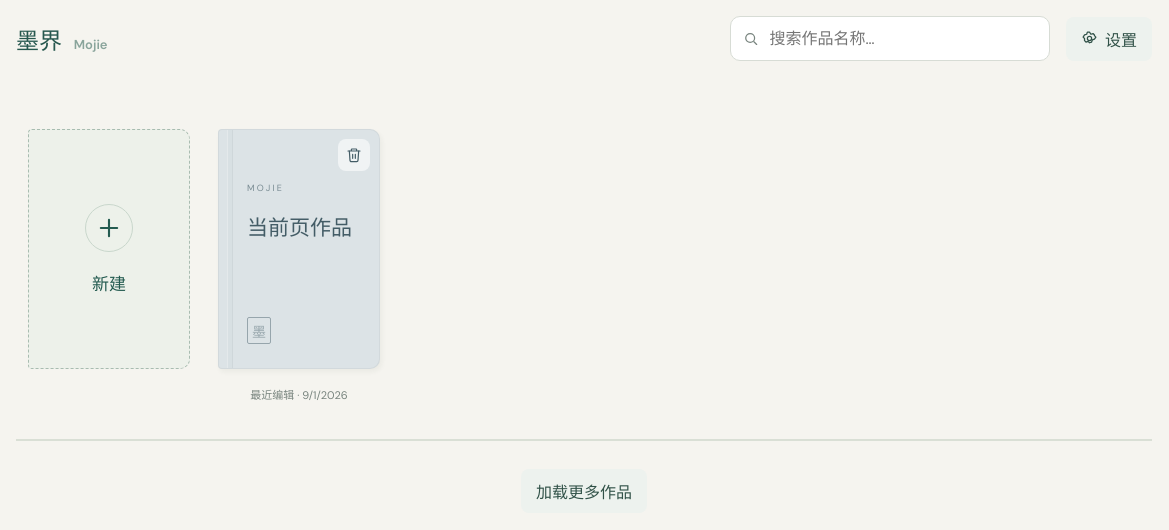
Test case: search queries all projects independently of creation and keeps its keyword during pagination
This screenshot has width=1169, height=530.
Expected: the text "当前页作品" is shown, [247,212,352,246]
Type "林舟" into the search field labelled "搜索作品名称" at (903, 38), box [769,17,1037,60]
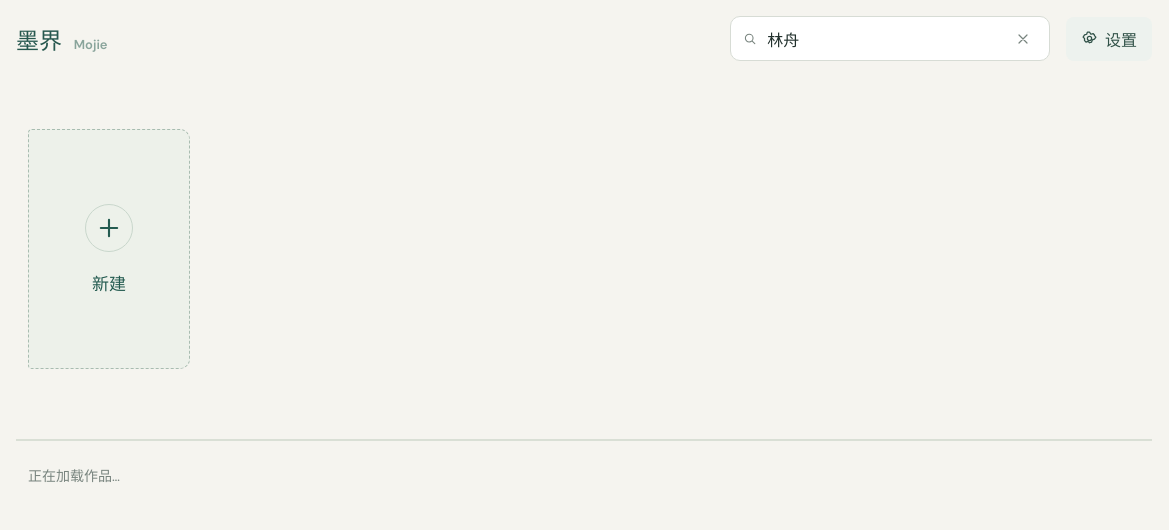
Press Enter in the search field named "搜索作品名称", box [767,17,999,60]
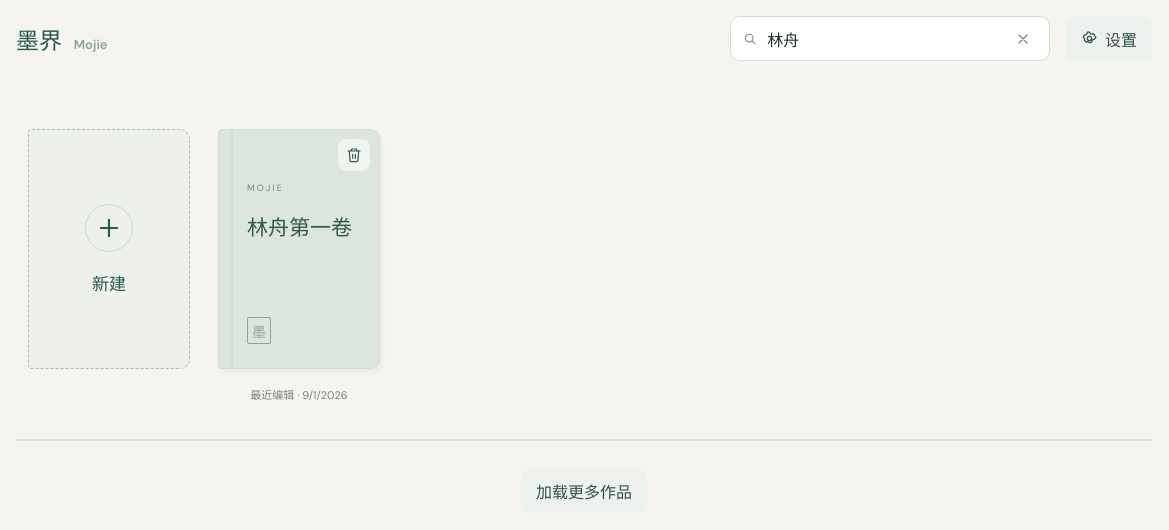
Expected: the button "当前页作品" is not shown
Expected: the text "林舟第一卷" is shown, [247,212,352,246]
Click the button "加载更多作品" at (584, 491), box [521,469,647,513]
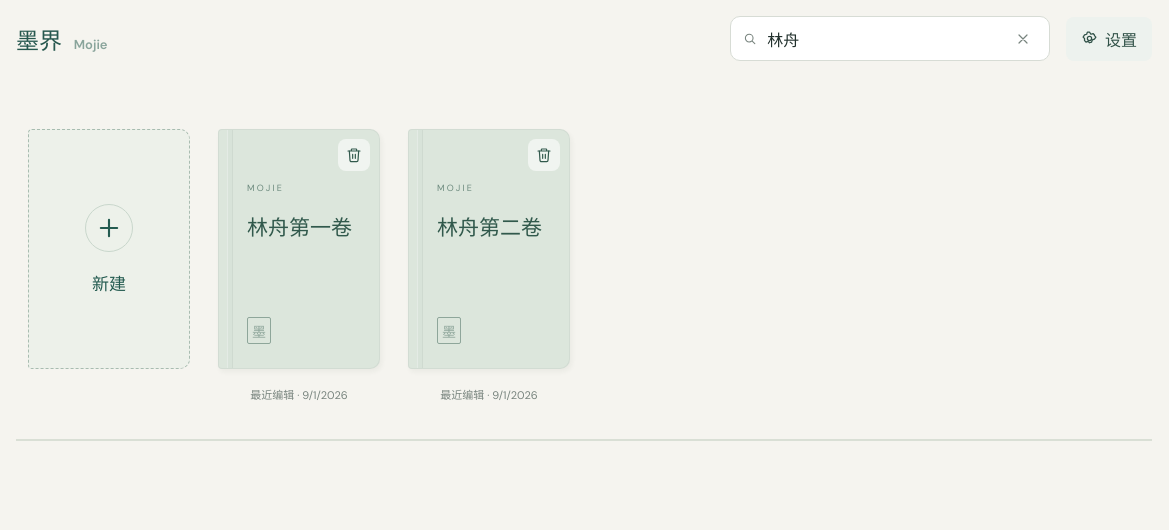
Expected: the text "林舟第一卷" is shown, [247,212,352,246]
Expected: the text "林舟第二卷" is shown, [437,212,542,246]
